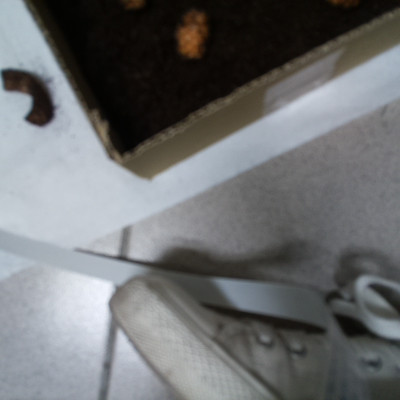eggs: (168, 7, 216, 67)
